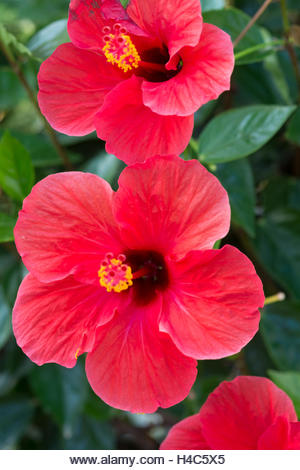Hibiscus: (14, 155, 268, 409), (20, 1, 249, 162), (165, 364, 297, 447)
